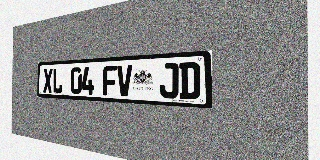0: (70, 67, 82, 94)
4: (82, 66, 94, 95)
D: (179, 62, 200, 100)
F: (103, 65, 117, 96)
J: (160, 63, 179, 99)
L: (53, 68, 62, 93)
V: (117, 65, 132, 97)
X: (43, 68, 53, 93)
